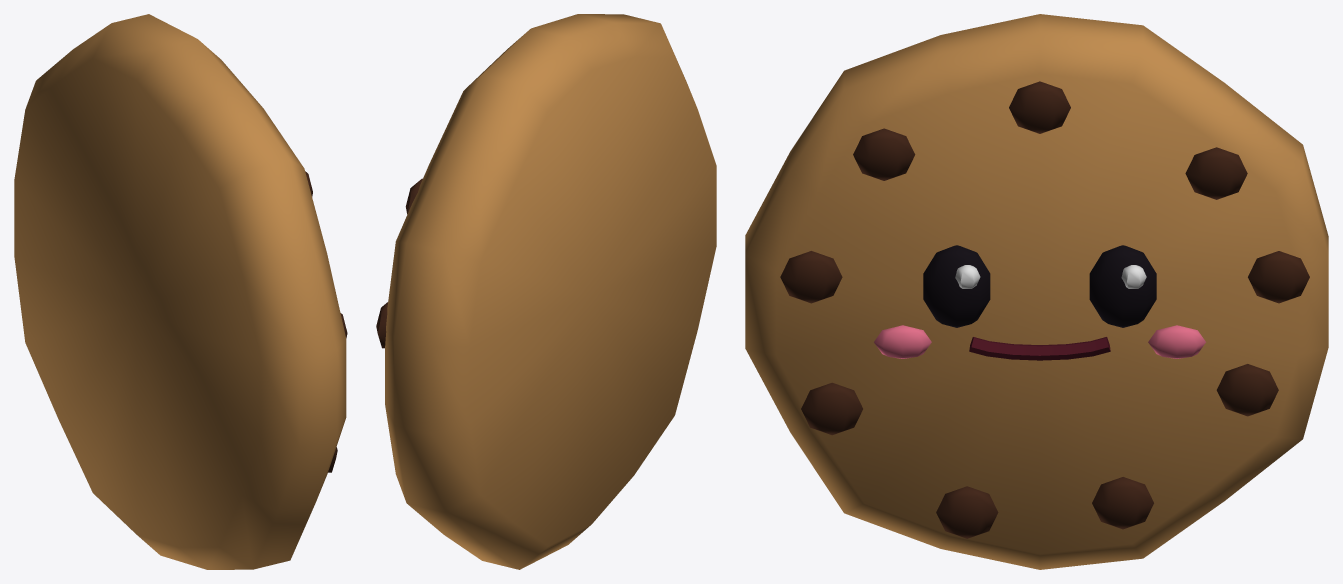
File: cookie.glb
The picture shows the model from 3 angles, left to right: view 1: azimuth 30°, elevation 25°; view 2: azimuth 150°, elevation 25°; view 3: azimuth 270°, elevation 25°; orthographic projection. The views are drawn at different scales.
Visible parts, largest first — view 1: cookie; view 2: cookie; view 3: cookie.
Part boxes in pixels (box(x1,y1,x2,y2)): cookie: box(14, 14, 347, 569); cookie: box(376, 14, 716, 569); cookie: box(745, 14, 1328, 569).
Size of the model in its own units: 0.1299 by 0.57 by 0.5613.
